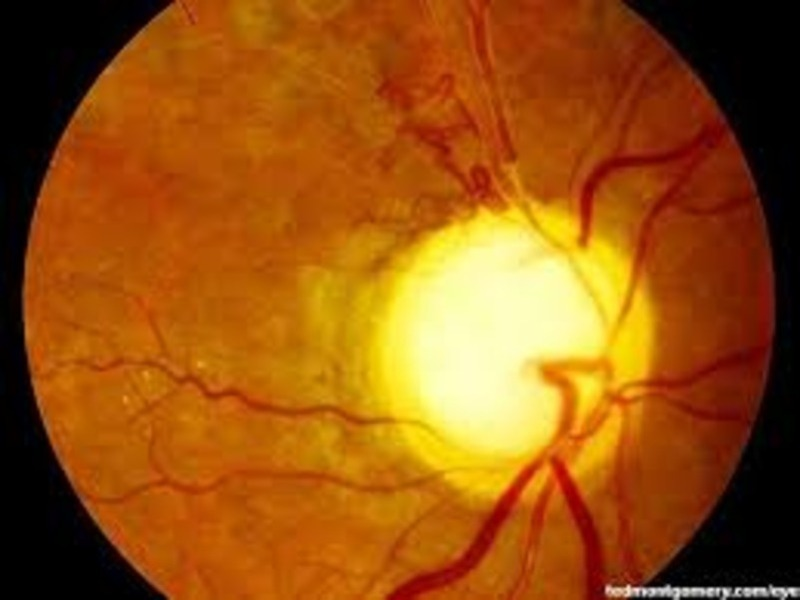Optic Cup: (416, 247, 607, 453)
Optic Disc: (376, 204, 655, 495)
